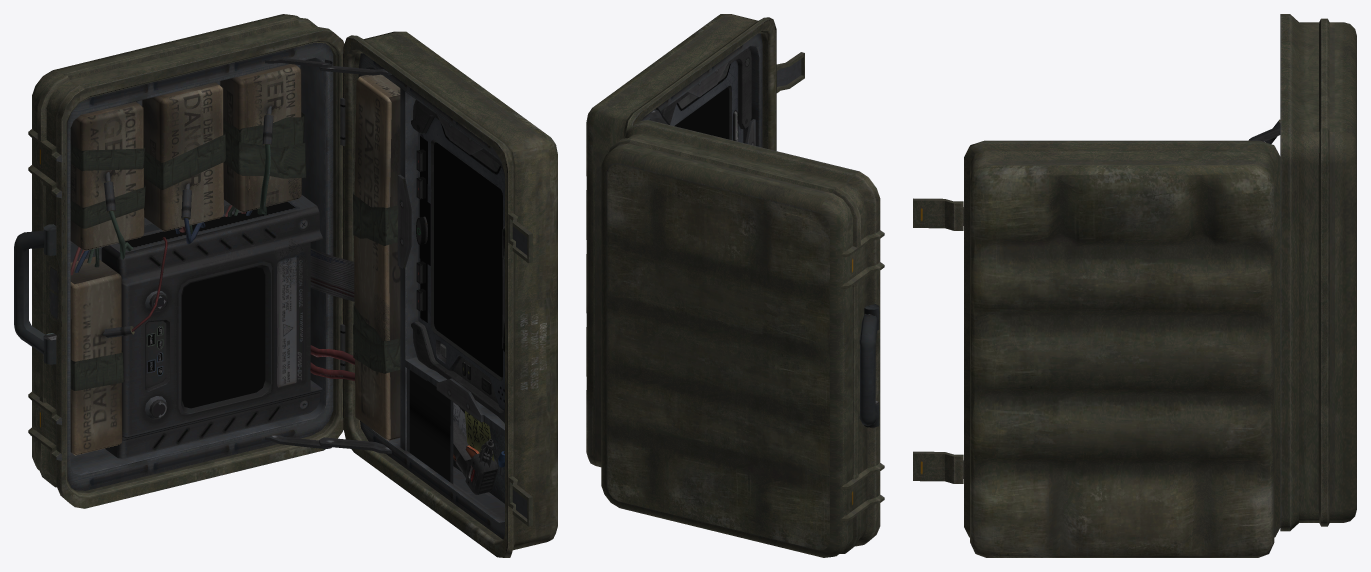
The model's file is t6_wpn_briefcase_bomb_view_LOD0.obj.
The picture shows the model from 3 angles, left to right: view 1: azimuth 30°, elevation 25°; view 2: azimuth 150°, elevation 25°; view 3: azimuth 270°, elevation 25°; orthographic projection. The views are drawn at different scales.
Parts seen in each view (by area): view 1: mtl_t6_wpn_briefcase_bomb, mtl_t6_wpn_briefcase_bomb_detail, mtl_t6_wpn_briefcase_bomb_lens, mtl_t6_wpn_tablet, mtl_t6_wpn_briefcase_bomb_alpha, mtl_t6_wpn_laster_cutter, mtl_t6_wpn_tablet_buttons; view 2: mtl_t6_wpn_briefcase_bomb_detail, mtl_t6_wpn_briefcase_bomb, mtl_t6_wpn_tablet, mtl_t6_wpn_briefcase_bomb_lens; view 3: mtl_t6_wpn_briefcase_bomb_detail, mtl_t6_wpn_briefcase_bomb.
Part boxes in pixels (x1,y1,x2,y2): mtl_t6_wpn_briefcase_bomb: [14, 42, 532, 539]; mtl_t6_wpn_briefcase_bomb_detail: [28, 14, 557, 557]; mtl_t6_wpn_briefcase_bomb_lens: [182, 142, 502, 408]; mtl_t6_wpn_tablet: [411, 100, 504, 423]; mtl_t6_wpn_briefcase_bomb_alpha: [409, 370, 450, 481]; mtl_t6_wpn_laster_cutter: [453, 420, 497, 494]; mtl_t6_wpn_tablet_buttons: [419, 136, 430, 322]; mtl_t6_wpn_briefcase_bomb_detail: [586, 14, 884, 557]; mtl_t6_wpn_briefcase_bomb: [641, 33, 879, 427]; mtl_t6_wpn_tablet: [661, 47, 751, 142]; mtl_t6_wpn_briefcase_bomb_lens: [674, 88, 729, 139]; mtl_t6_wpn_briefcase_bomb_detail: [964, 14, 1356, 557]; mtl_t6_wpn_briefcase_bomb: [913, 119, 1280, 483].
Size of the model in its own units: 49.27 by 54.6 by 54.41.
